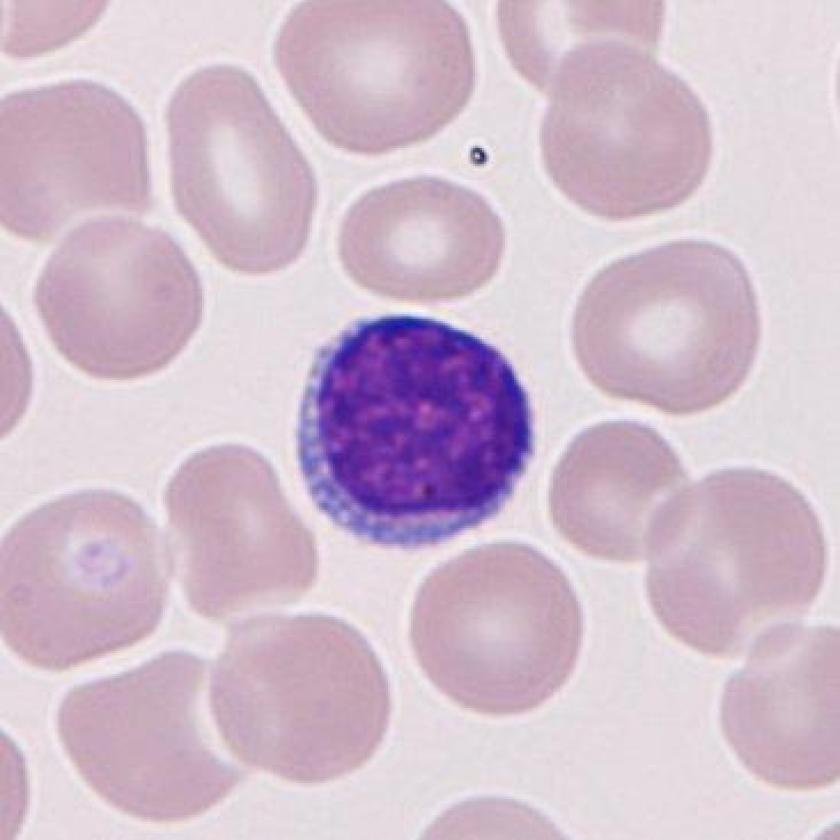lymphocyte: (283, 297, 552, 570)
